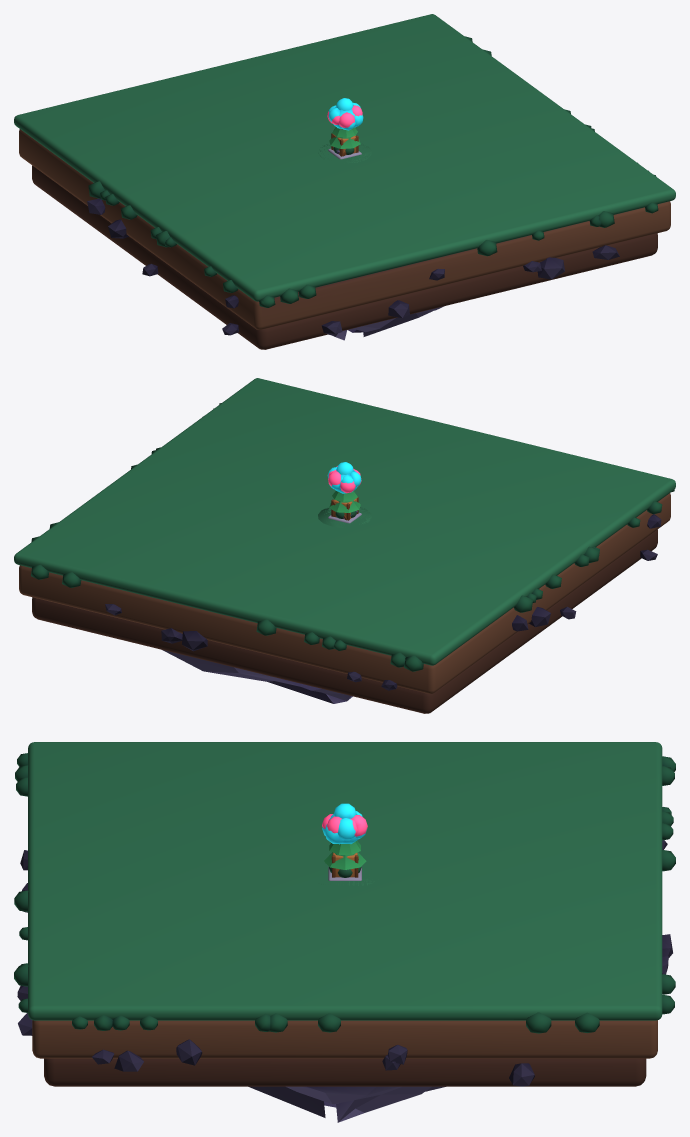
The model's file is island.glb.
3 renders of one model, top to bottom at view 1: azimuth 30°, elevation 25°; view 2: azimuth 150°, elevation 25°; view 3: azimuth 270°, elevation 25°, orthographic. The views are drawn at different scales.
Visible parts, largest first — view 1: Island, TreeTeal; view 2: Island, TreeTeal; view 3: Island, TreeTeal, Pine.
Boxes of the visible parts, <box> form: Island: <box>14,14,675,349</box>; TreeTeal: <box>328,98,363,130</box>; Island: <box>14,378,675,713</box>; TreeTeal: <box>327,462,361,493</box>; Island: <box>14,742,675,1122</box>; TreeTeal: <box>322,803,366,844</box>; Pine: <box>324,841,366,869</box>.
Size of the model in its own units: 18.74 by 9.5 by 18.57.
